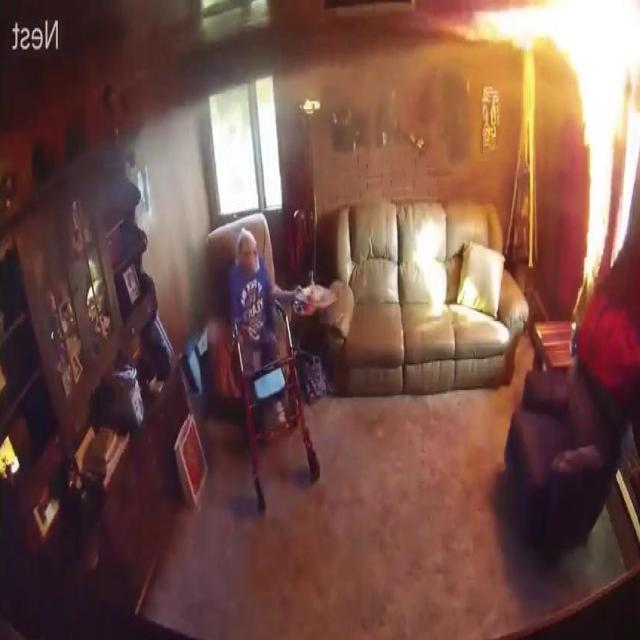fire: (276, 38, 469, 128)
smoke: (581, 0, 630, 282), (471, 3, 640, 66)
